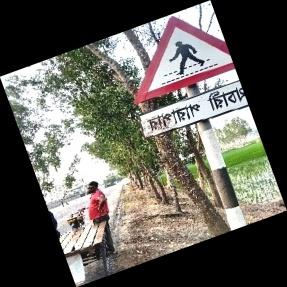Pedestrian-crossing: (134, 14, 250, 138)
